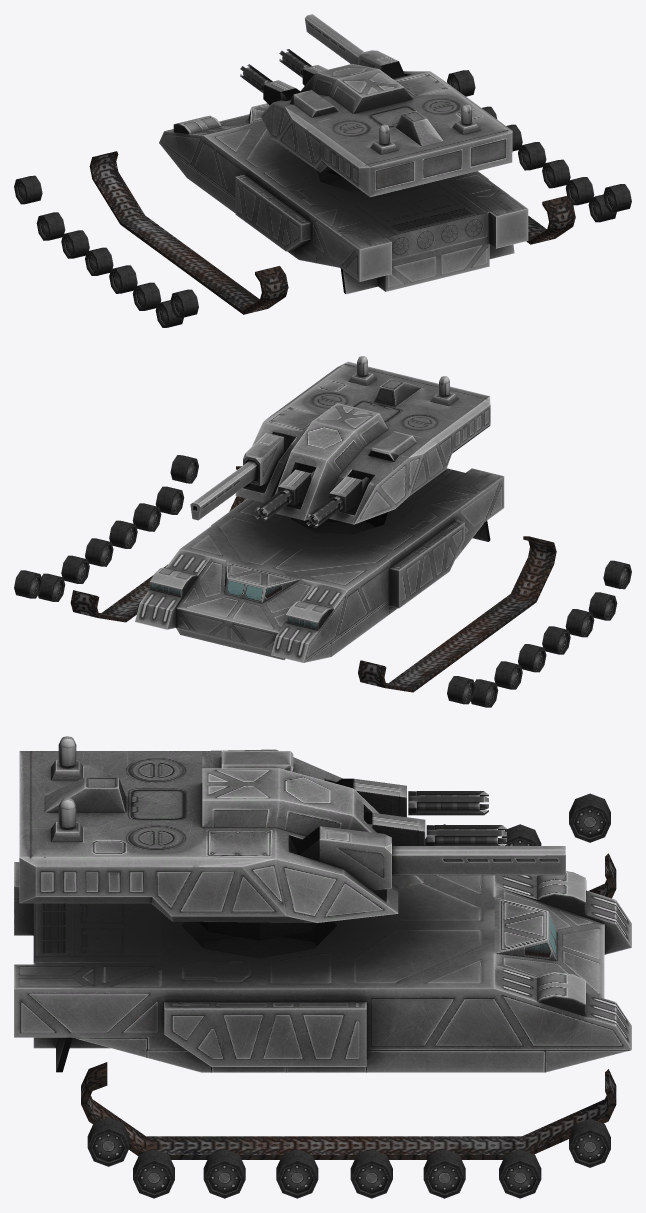
File: Narukami exp.fbx
3 renders of one model, top to bottom at view 1: azimuth 30°, elevation 25°; view 2: azimuth 150°, elevation 25°; view 3: azimuth 270°, elevation 25°, orthographic. The views are drawn at different scales.
Parts seen in each view (by area): view 1: body, turret, trackr, trackl, barrel_1, mantlet_3, mantlet_1, mantlet_2, wheel1, wheel16, wheel8, wheel2 (+10 smaller); view 2: body, turret, trackr, trackl, mantlet_3, barrel_1, mantlet_2, mantlet_1, wheel9, wheel16, wheel8, wheel1 (+12 smaller); view 3: body, turret, trackl, barrel_1, mantlet_1, mantlet_3, mantlet_2, wheel12, wheel10, wheel14, wheel13, wheel16 (+4 smaller).
Boxes of the visible parts, x1,y1,x2,y2 form: body: [159, 103, 528, 294]; turret: [260, 64, 512, 197]; trackr: [89, 151, 288, 314]; trackl: [526, 196, 575, 244]; barrel_1: [304, 14, 363, 64]; mantlet_3: [240, 64, 300, 105]; mantlet_1: [358, 50, 405, 78]; mantlet_2: [279, 49, 327, 85]; wheel1: [14, 175, 42, 204]; wheel16: [603, 184, 631, 212]; wheel8: [170, 289, 198, 317]; wheel2: [36, 212, 65, 240]; body: [135, 468, 504, 662]; turret: [235, 356, 490, 524]; trackr: [358, 536, 556, 692]; trackl: [70, 466, 246, 622]; mantlet_3: [306, 473, 369, 527]; barrel_1: [190, 460, 257, 520]; mantlet_2: [255, 466, 315, 521]; mantlet_1: [243, 432, 290, 485]; wheel9: [14, 570, 42, 598]; wheel16: [170, 455, 198, 483]; wheel8: [603, 560, 631, 589]; wheel1: [447, 676, 475, 704]; body: [14, 862, 631, 1072]; turret: [19, 736, 423, 940]; trackl: [81, 1062, 616, 1159]; barrel_1: [392, 846, 565, 875]; mantlet_1: [300, 826, 391, 890]; mantlet_3: [335, 778, 488, 817]; mantlet_2: [364, 812, 506, 845]; wheel12: [350, 1149, 392, 1198]; wheel10: [499, 1149, 541, 1198]; wheel14: [203, 1149, 245, 1198]; wheel13: [276, 1149, 318, 1198]; wheel16: [87, 1117, 129, 1166].
Bounding box in the file's own units: 87.51 × 33.55 × 67.97.
Materials: 1 (1 with a texture image).
